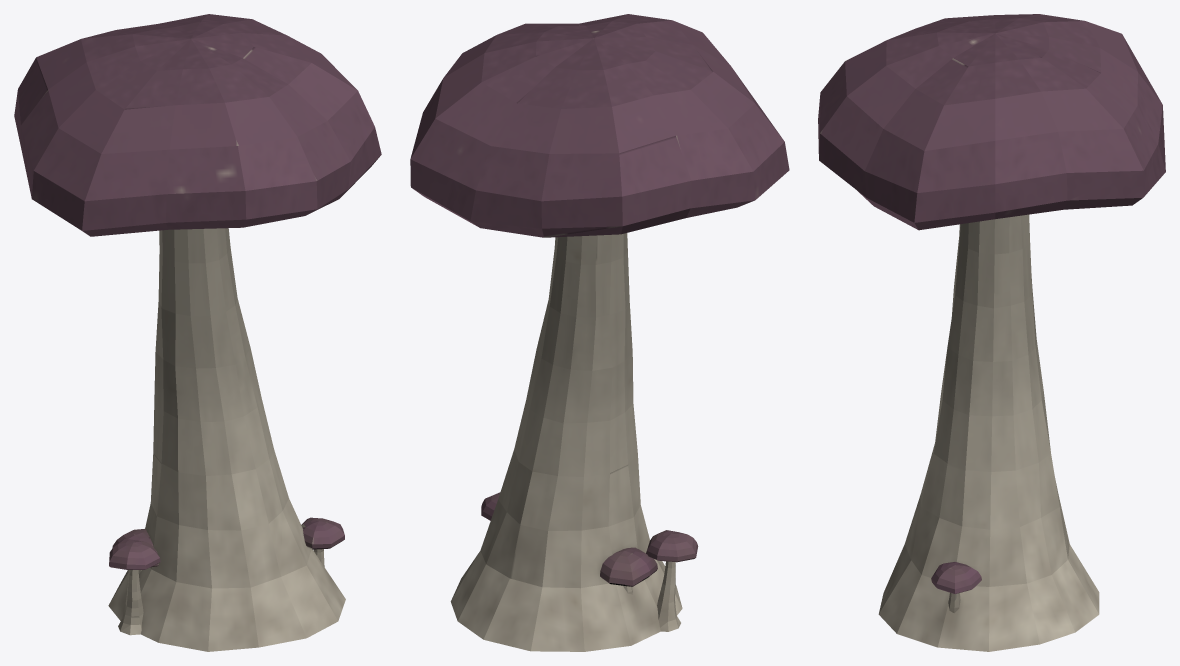
The model's file is cogumelo_gigante_a.glb.
3 views of the same model, side by side, from view 1: azimuth 30°, elevation 25°; view 2: azimuth 150°, elevation 25°; view 3: azimuth 270°, elevation 25° (orthographic). The views are drawn at different scales.
Parts seen in each view (by area): view 1: cogumelo_gigante_a; view 2: cogumelo_gigante_a; view 3: cogumelo_gigante_a.
Boxes of the visible parts, left/top/right/bottom form: cogumelo_gigante_a: left=14, top=14, right=381, bottom=651; cogumelo_gigante_a: left=410, top=14, right=789, bottom=651; cogumelo_gigante_a: left=818, top=14, right=1165, bottom=651.
Size of the model in its own units: 0.92 by 1.6 by 0.911.
2 materials, 1 textured.
